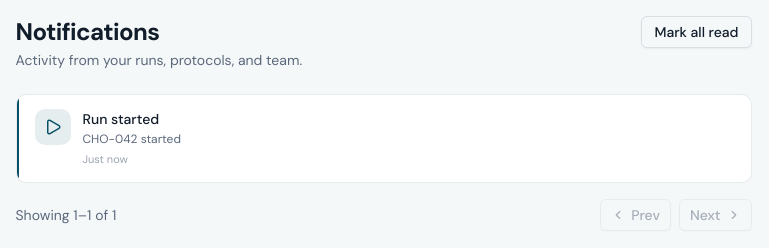
Scenario: /notifications page › disables "Mark all read" while the request is in flight
Check: the text "Run started" is shown, box top-left (82, 109), bottom-right (159, 129)
Click the button "Mark all read". click: (696, 32)
box: top-left (642, 16), bottom-right (752, 48)
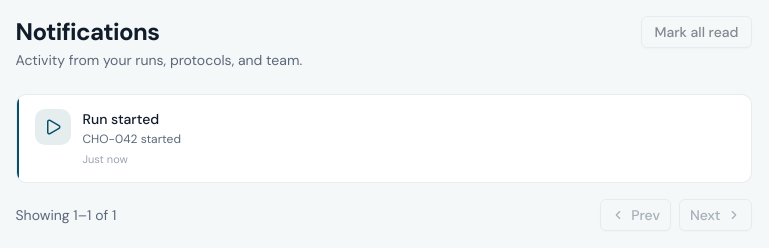
Check: the button "Mark all read" is disabled, box top-left (642, 16), bottom-right (752, 48)
